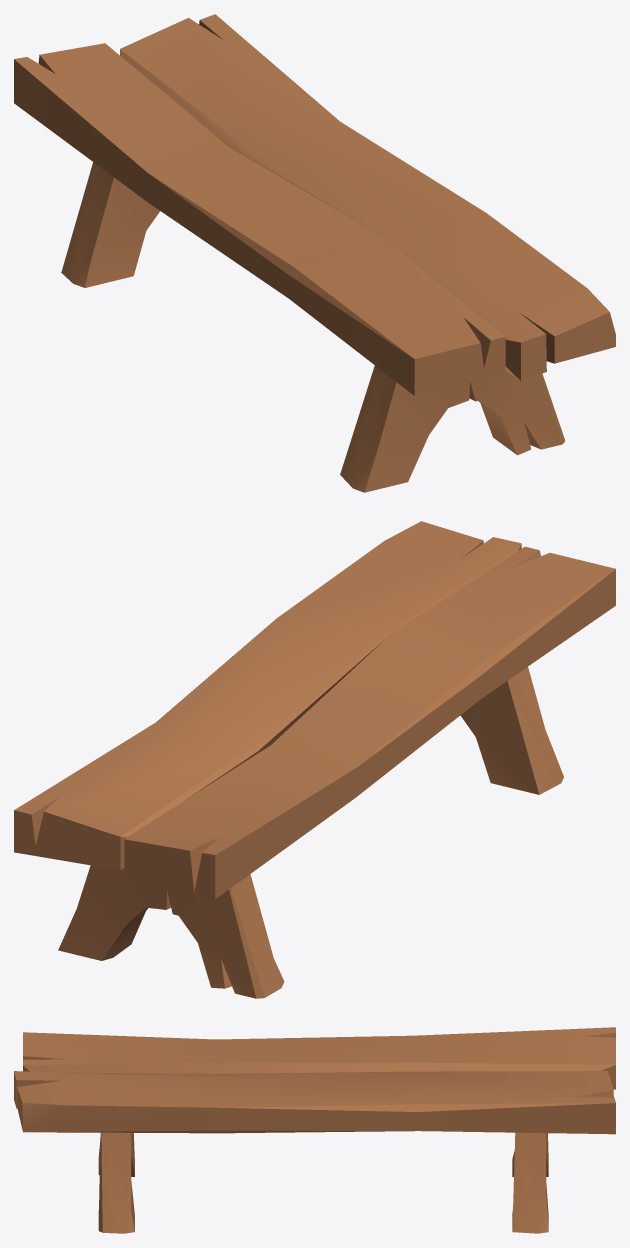
The model's file is Bench.fbx.
The picture shows the model from 3 angles, top to bottom: view 1: azimuth 30°, elevation 25°; view 2: azimuth 150°, elevation 25°; view 3: azimuth 270°, elevation 25°; orthographic projection. The views are drawn at different scales.
Parts seen in each view (by area): view 1: bench; view 2: bench; view 3: bench.
Part boxes in pixels (x1,y1,x2,y2): bench: (14,14,615,492); bench: (14,521,615,998); bench: (14,1027,615,1233).
Bounding box in the file's own units: 57.6 × 46.61 × 193.
